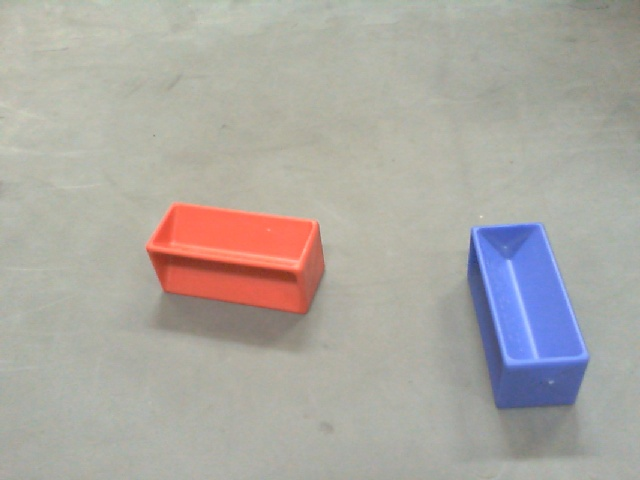BlueSample: (464, 219, 593, 413)
RedSample: (144, 198, 327, 318)
